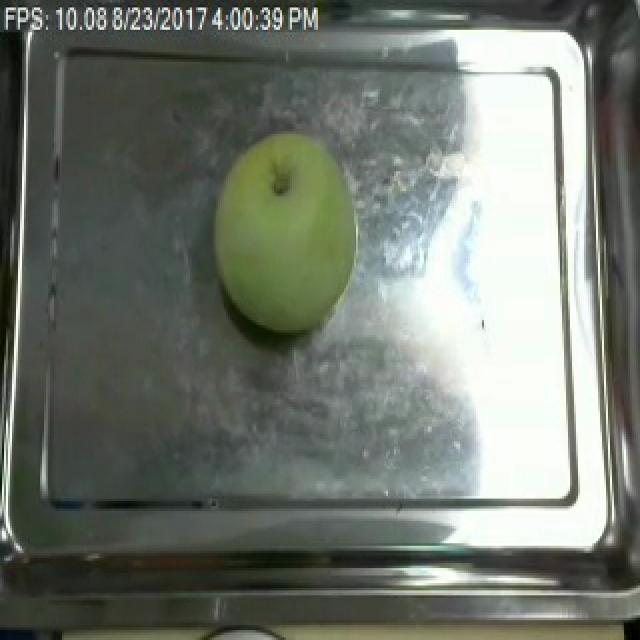50-_ripeness: (212, 120, 368, 338)
